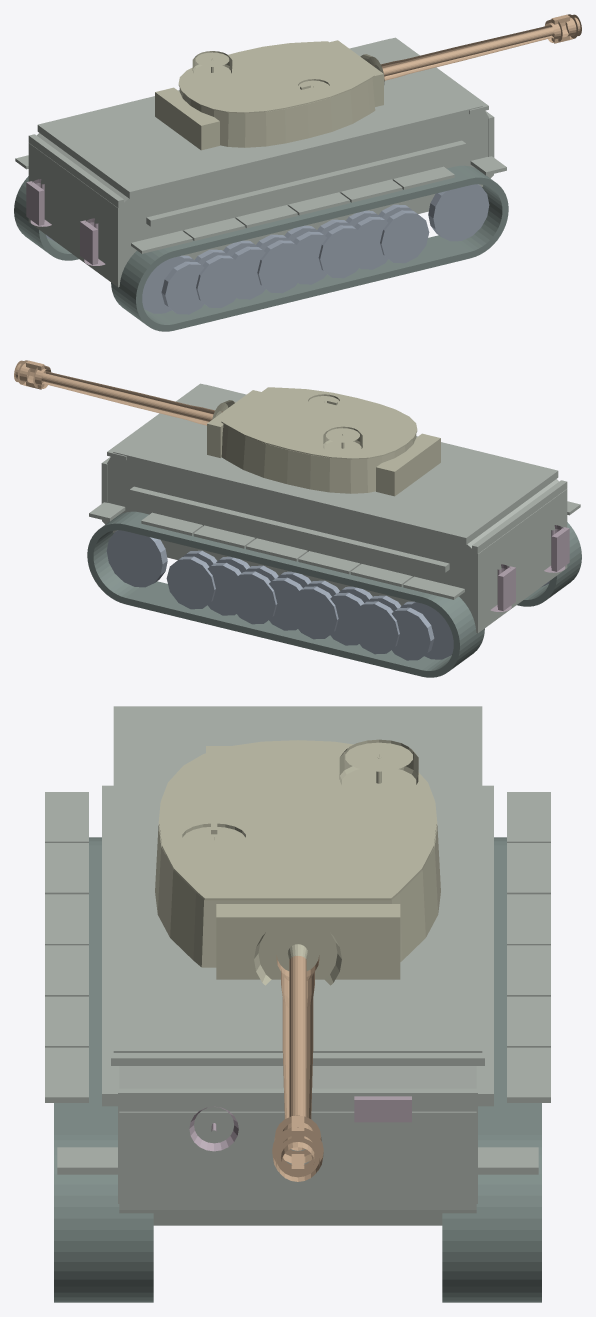
The model's file is tiger-i-control.glb.
3 views of the same model, one above another, from view 1: azimuth 30°, elevation 25°; view 2: azimuth 150°, elevation 25°; view 3: azimuth 270°, elevation 25° (orthographic). The views are drawn at different scales.
Visible parts, largest first — view 1: HullArmour, RoofPlate, TrackBelt_1, TurretRoof, TurretShell, Sponsons, Sprocket_1, BarrelTube, TurretStowage, RoadWheel_+1_06_3, RoadWheel_+1_04_3, RoadWheel_+1_08_3 (+20 smaller); view 2: HullArmour, RoofPlate, TrackBelt_-1, TurretRoof, TurretShell, Sponsons, Sprocket_-1, BarrelTube, TurretStowage, RoadWheel_-1_08_3, RoadWheel_-1_04_3, RoadWheel_-1_06_3 (+20 smaller); view 3: RoofPlate, HullArmour, TurretRoof, TrackBelt_-1, TrackBelt_1, MantletShield, TurretShell, Sponsons, NoseVerticalPlate, BarrelTube, NoseRoofTransition, SideSkirt_-1_6 (+19 smaller).
Part boxes in pixels (bbox=[...]): HullArmour: bbox=[28, 111, 493, 287]; RoofPlate: bbox=[37, 38, 482, 198]; TrackBelt_1: bbox=[111, 165, 508, 331]; TurretRoof: bbox=[178, 41, 374, 113]; TurretShell: bbox=[179, 78, 375, 147]; Sponsons: bbox=[146, 140, 466, 226]; Sprocket_1: bbox=[428, 184, 489, 241]; BarrelTube: bbox=[373, 25, 554, 80]; TurretStowage: bbox=[155, 87, 219, 150]; RoadWheel_+1_06_3: bbox=[318, 225, 367, 278]; RoadWheel_+1_04_3: bbox=[257, 240, 306, 293]; RoadWheel_+1_08_3: bbox=[380, 210, 429, 263]; HullArmour: bbox=[102, 457, 567, 633]; RoofPlate: bbox=[113, 384, 558, 544]; TrackBelt_-1: bbox=[87, 511, 484, 677]; TurretRoof: bbox=[221, 387, 417, 459]; TurretShell: bbox=[221, 424, 416, 493]; Sponsons: bbox=[129, 486, 449, 572]; Sprocket_-1: bbox=[106, 530, 167, 587]; BarrelTube: bbox=[41, 371, 222, 425]; TurretStowage: bbox=[376, 433, 440, 496]; RoadWheel_-1_08_3: bbox=[166, 556, 215, 609]; RoadWheel_-1_04_3: bbox=[289, 586, 338, 639]; RoadWheel_-1_06_3: bbox=[228, 571, 277, 624]; RoofPlate: bbox=[113, 706, 482, 1052]; HullArmour: bbox=[119, 1066, 476, 1225]; TurretRoof: bbox=[159, 740, 436, 900]; TrackBelt_-1: bbox=[442, 837, 541, 1302]; TrackBelt_1: bbox=[54, 837, 153, 1302]; MantletShield: bbox=[216, 904, 400, 979]; TurretShell: bbox=[155, 802, 440, 967]; Sponsons: bbox=[102, 785, 493, 1106]; NoseVerticalPlate: bbox=[118, 1087, 477, 1203]; BarrelTube: bbox=[276, 955, 319, 1150]; NoseRoofTransition: bbox=[111, 1040, 484, 1065]; SideSkirt_-1_6: bbox=[507, 1047, 550, 1102].
Size of the model in its own units: 8.69 by 2.95 by 3.68.
